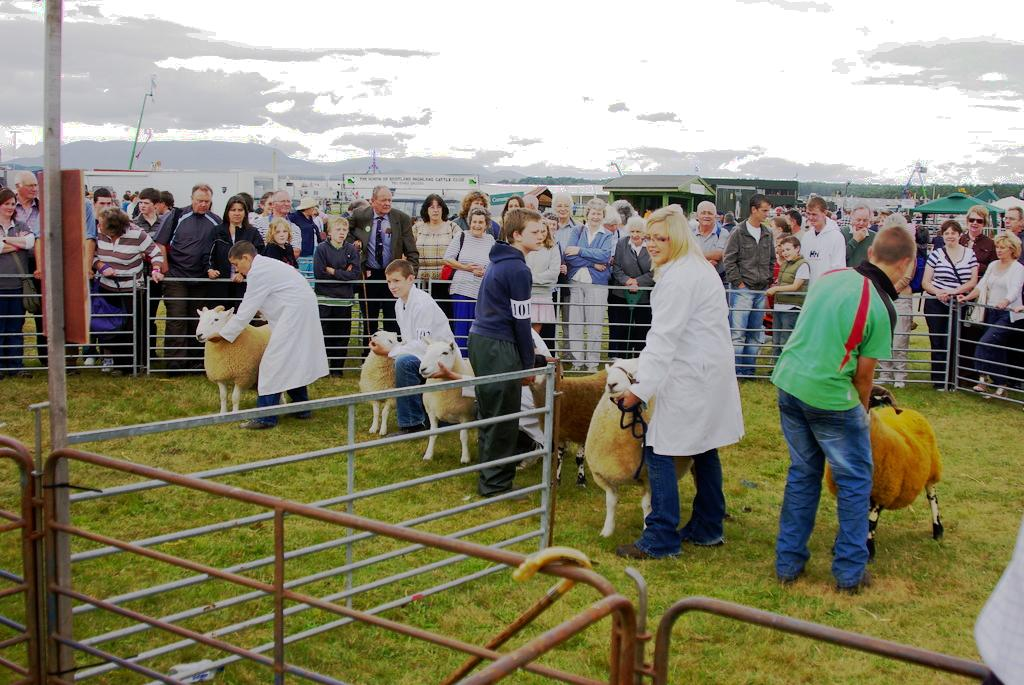Sheep: (824, 390, 944, 558), (580, 355, 670, 544), (530, 359, 628, 494), (196, 305, 288, 414), (418, 336, 476, 464), (359, 332, 403, 438)
